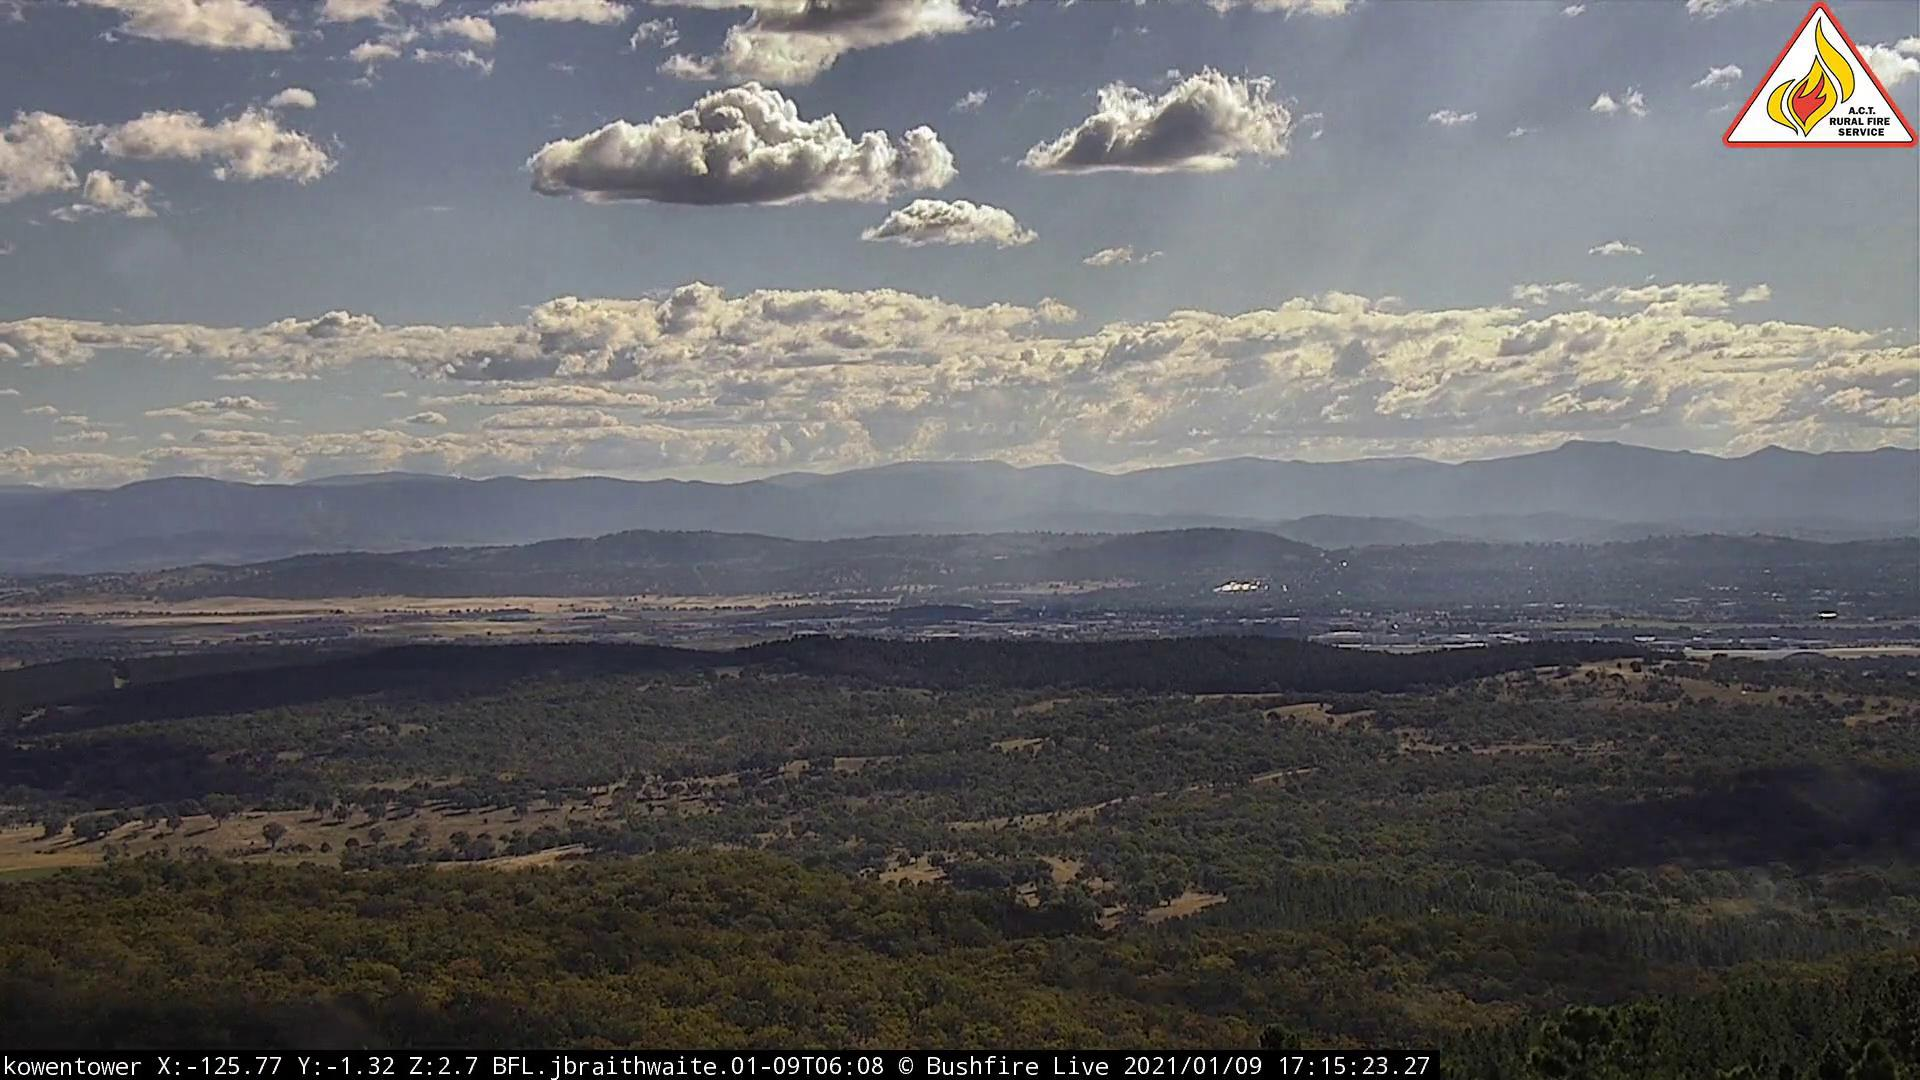Smoke: (882, 522, 1019, 609)
